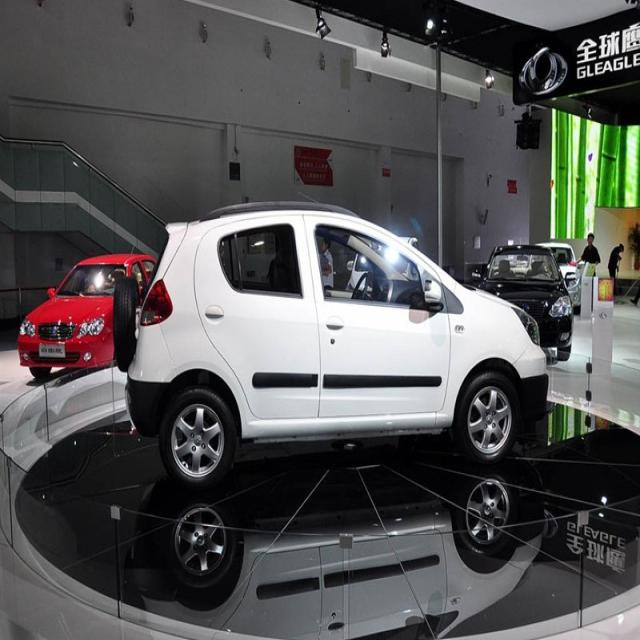back_right_side_light: (138, 279, 176, 327)
door: (197, 229, 321, 430)
front_bumper: (509, 341, 553, 411)
front_right_side_door: (301, 210, 453, 418)
front_right_side_light: (506, 302, 542, 348)
front_right_side_mirror: (422, 276, 444, 310)
rear_bumper: (124, 366, 170, 437)
wheel: (162, 386, 236, 498), (458, 372, 516, 464)
